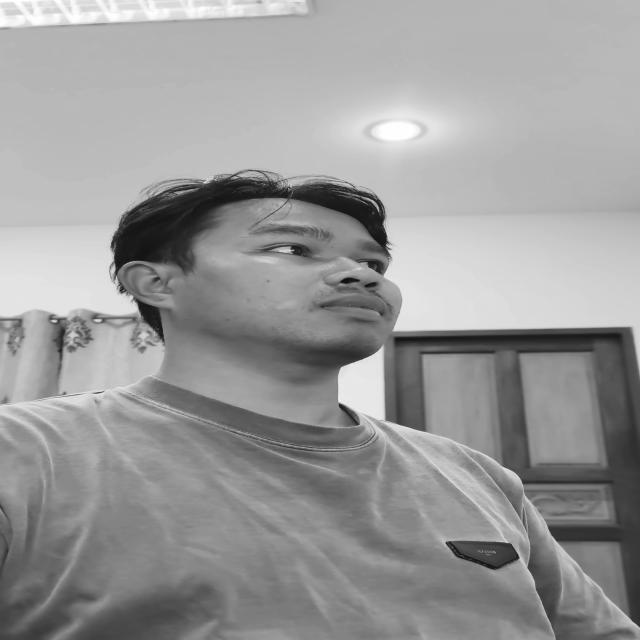ear: (117, 261, 179, 308)
